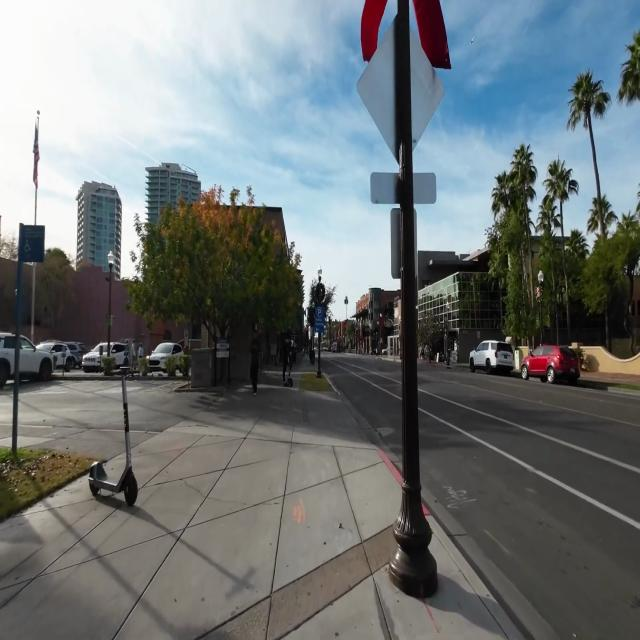road: (418, 361, 640, 639), (333, 354, 401, 459)
side walk: (0, 371, 425, 639)
street sign: (394, 0, 417, 491)
